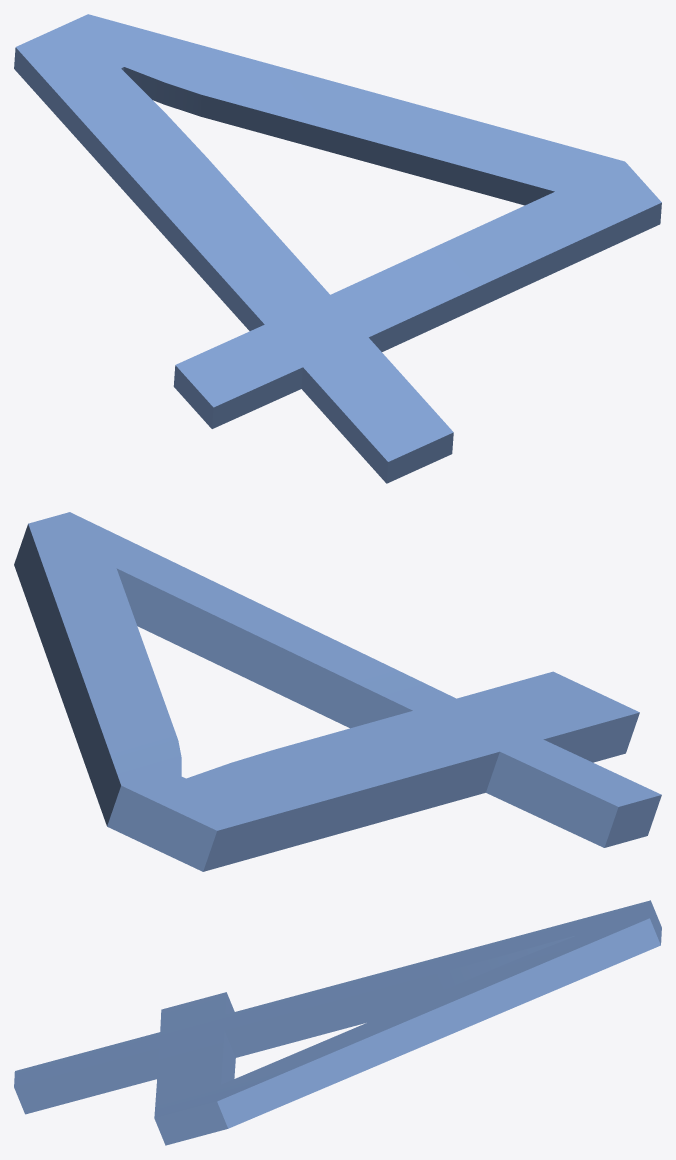
The model's file is New_Number_4.gltf.
3 views of the same model, one above another, from view 1: azimuth 30°, elevation 25°; view 2: azimuth 150°, elevation 25°; view 3: azimuth 270°, elevation 25° (orthographic). The views are drawn at different scales.
Visible parts, largest first — view 1: Part 607; view 2: Part 607; view 3: Part 607.
Part boxes in pixels (<box>): Part 607: <box>14,14,661,483</box>; Part 607: <box>14,512,661,871</box>; Part 607: <box>14,900,661,1145</box>.
Size of the model in its own units: 0.00406 by 0.00183 by 0.00545.
